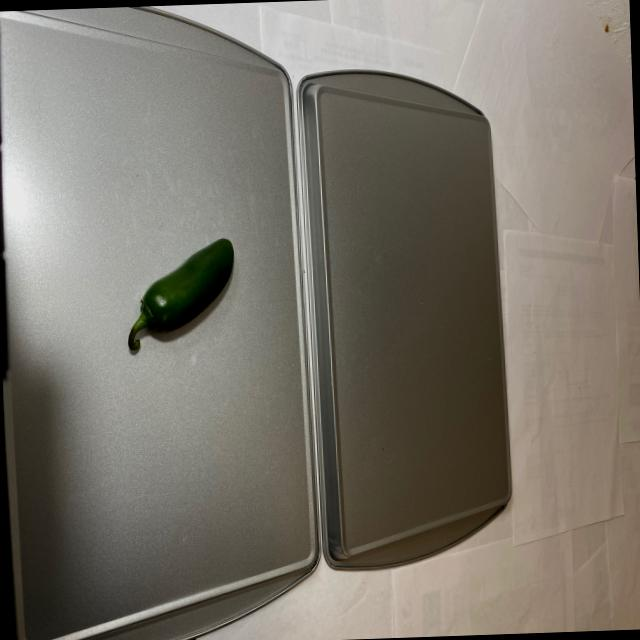chilli: (113, 232, 238, 361)
